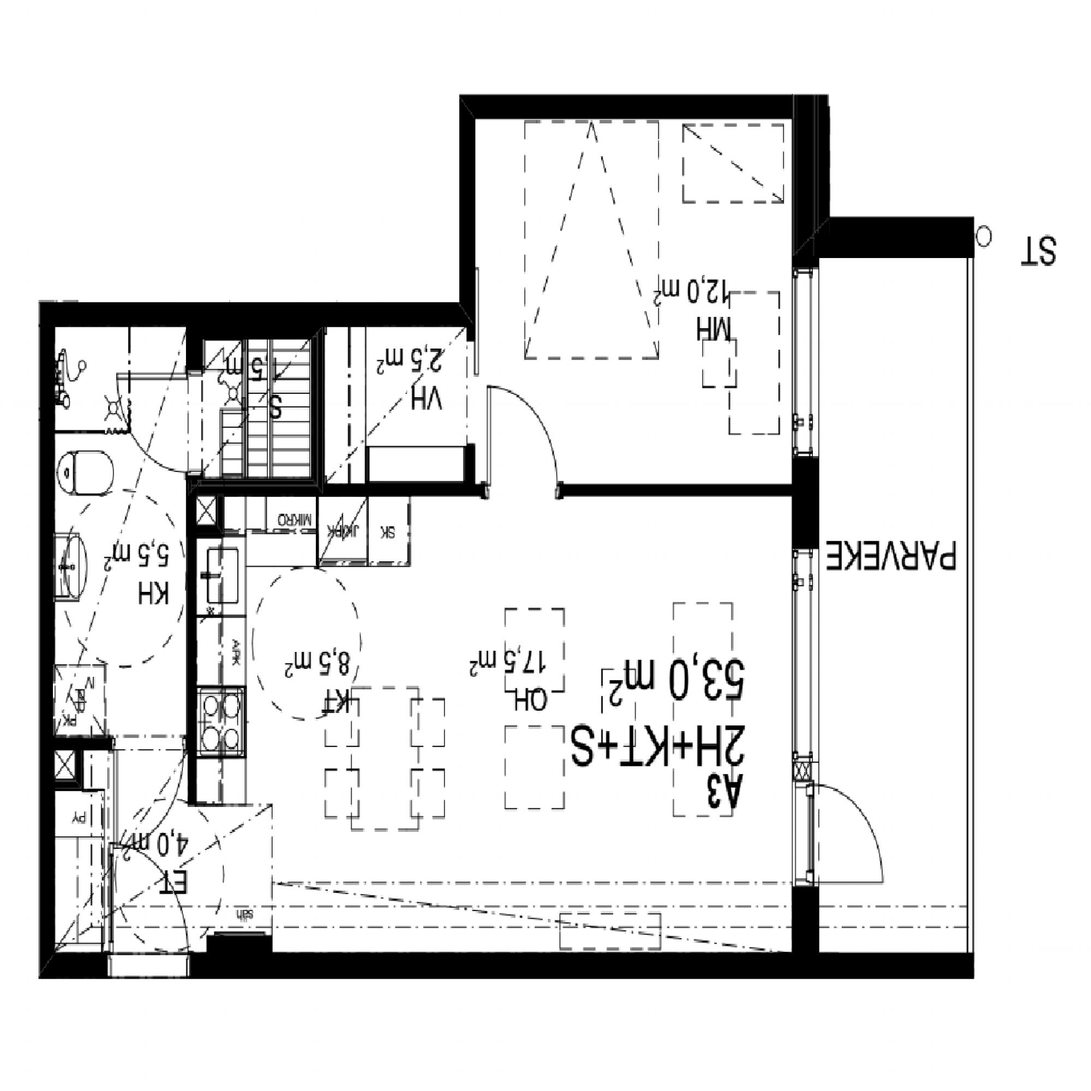wall: (792, 95, 819, 977), (39, 952, 819, 977), (39, 300, 55, 977), (460, 95, 819, 119), (819, 216, 973, 257), (186, 301, 325, 339), (39, 300, 203, 326), (467, 483, 792, 495), (325, 300, 475, 326), (819, 952, 973, 977), (186, 301, 203, 495), (460, 95, 474, 327), (186, 495, 196, 804), (311, 301, 325, 495), (186, 478, 325, 496), (311, 483, 475, 495), (55, 736, 186, 750), (50, 750, 84, 791), (208, 934, 272, 954), (194, 495, 223, 538), (467, 326, 474, 495)
